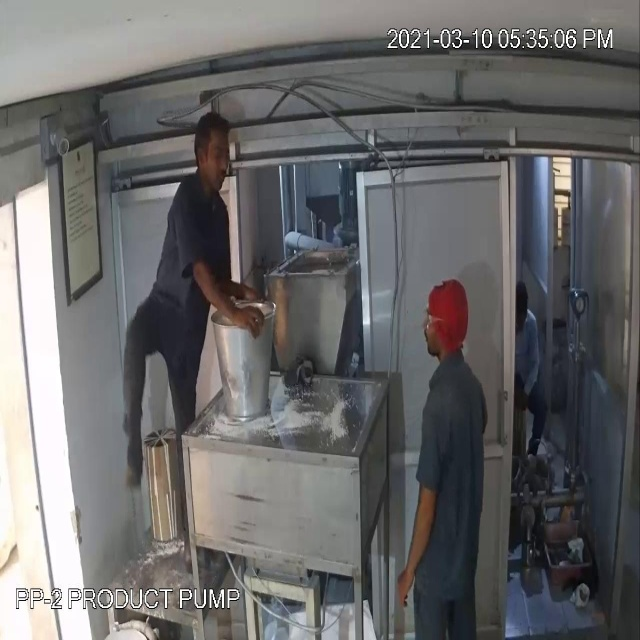Sin_guantes: (200, 238, 267, 353)
